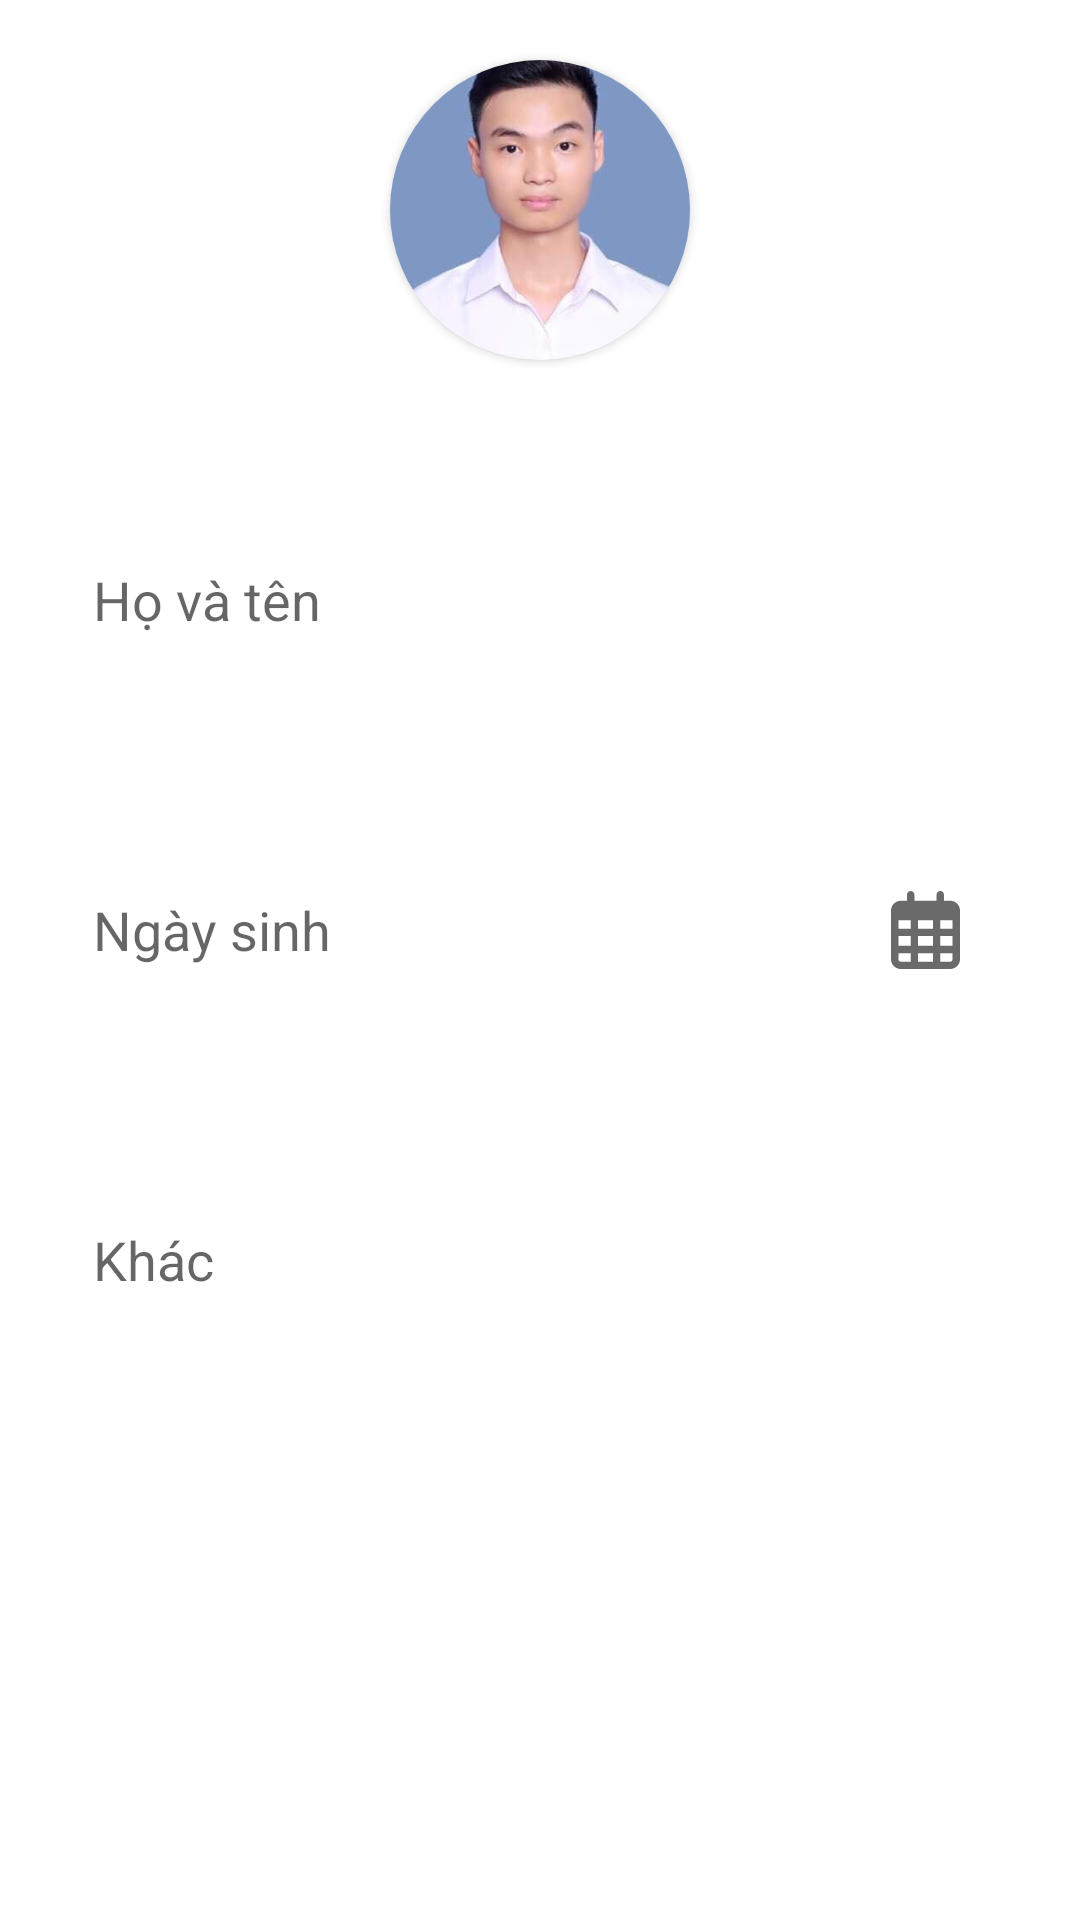

Point at icon controls on the screen. Image size 1080*1920, points as (x=x, y=y).
calendar: (x=925, y=930)
chan dung: (x=540, y=210)
